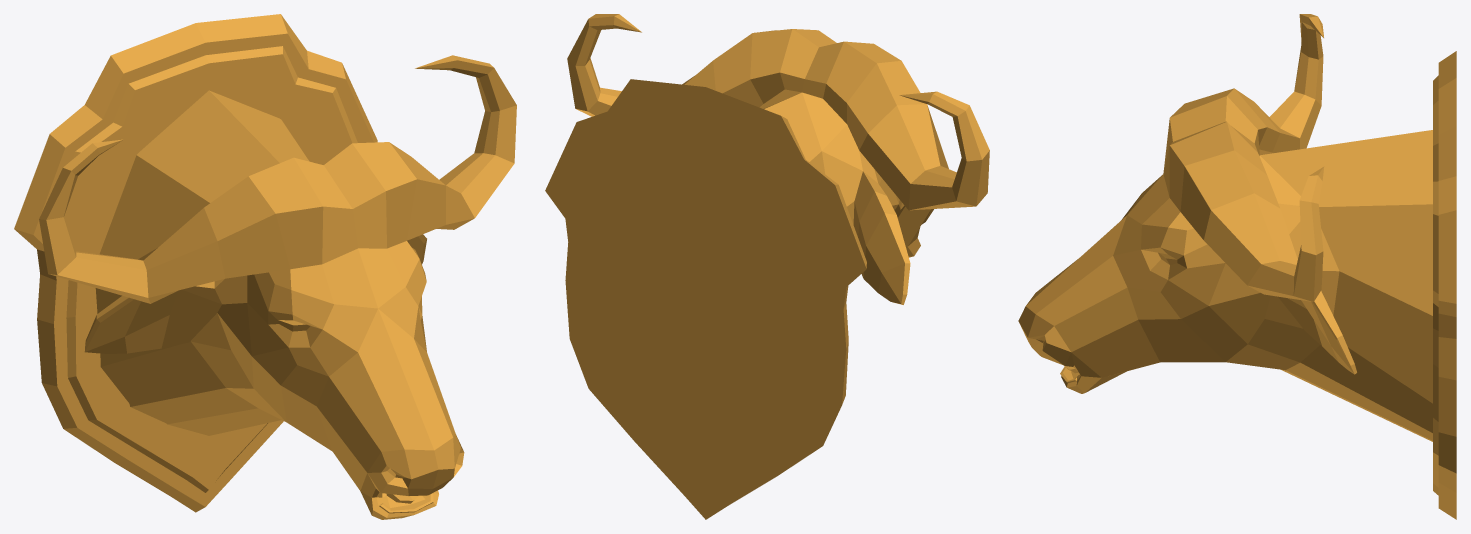
Rendered from SM_Trophy_Buffalo.fbx.
3 renders of one model, left to right at view 1: azimuth 30°, elevation 25°; view 2: azimuth 150°, elevation 25°; view 3: azimuth 270°, elevation 25°, orthographic. The views are drawn at different scales.
Parts seen in each view (by area): view 1: trophy-buffalo; view 2: trophy-buffalo; view 3: trophy-buffalo.
Boxes of the visible parts, box(x1,y1,x2,y2) form: trophy-buffalo: box(14, 14, 516, 519); trophy-buffalo: box(545, 14, 989, 519); trophy-buffalo: box(1018, 14, 1456, 519).
Bounding box in the file's own units: 0.9608 × 0.955 × 0.8578.
